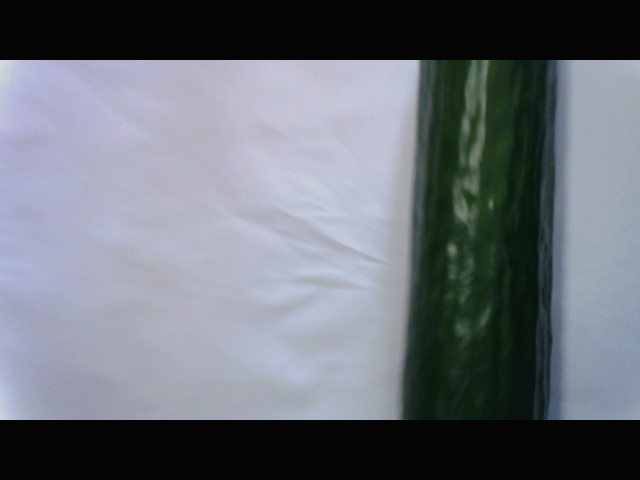cucumber: (396, 60, 566, 424)
